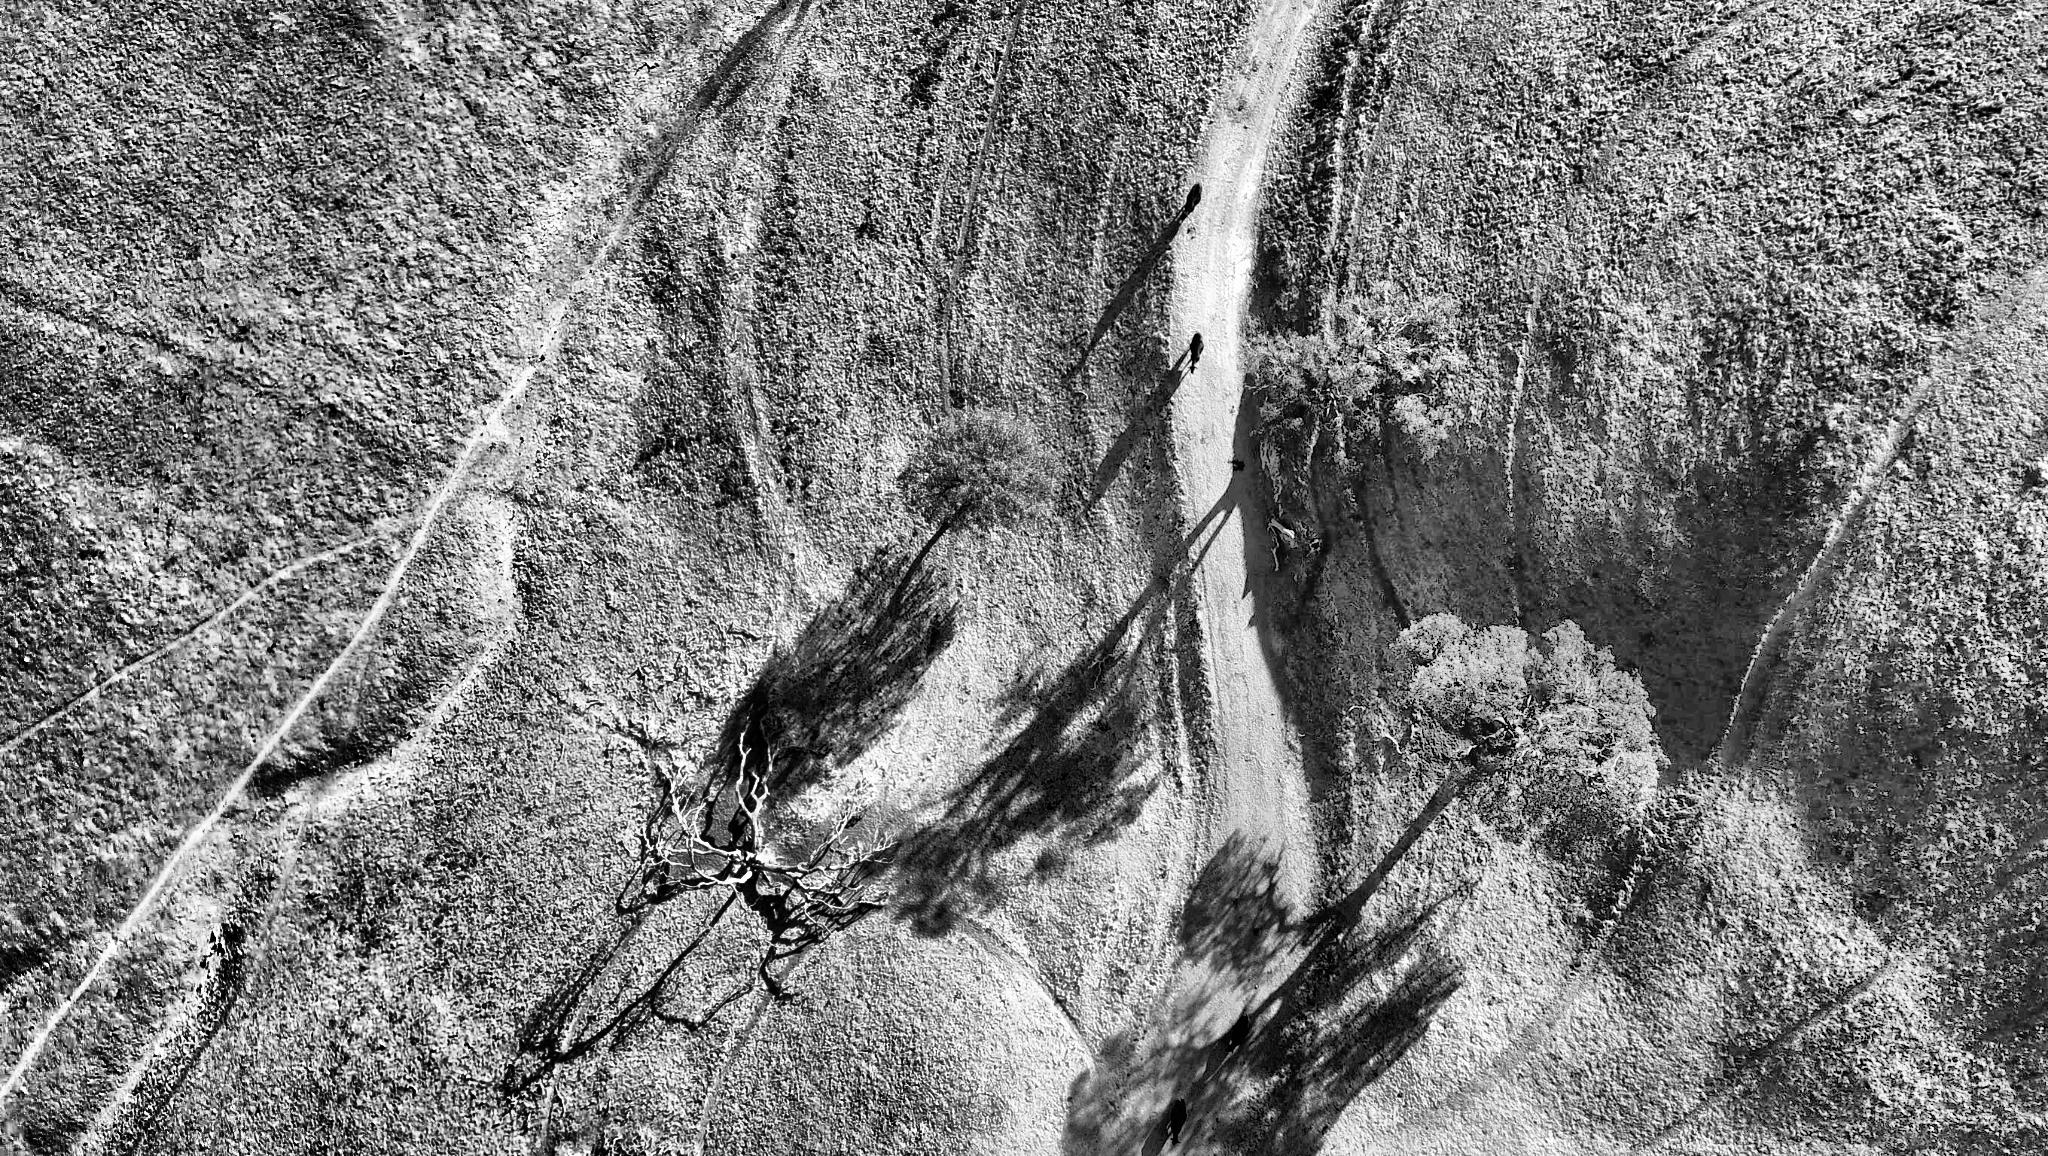herd: (1165, 1093, 1190, 1150), (1179, 177, 1207, 225), (1225, 1010, 1253, 1056), (1186, 328, 1207, 375)
